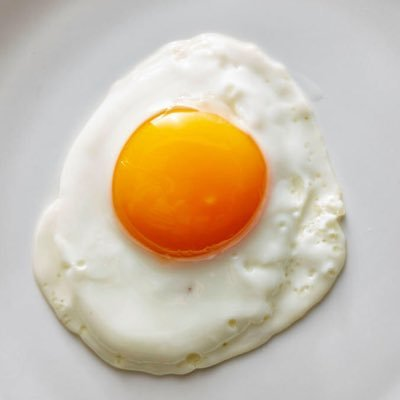gyelanhulai: (24, 27, 354, 386)
